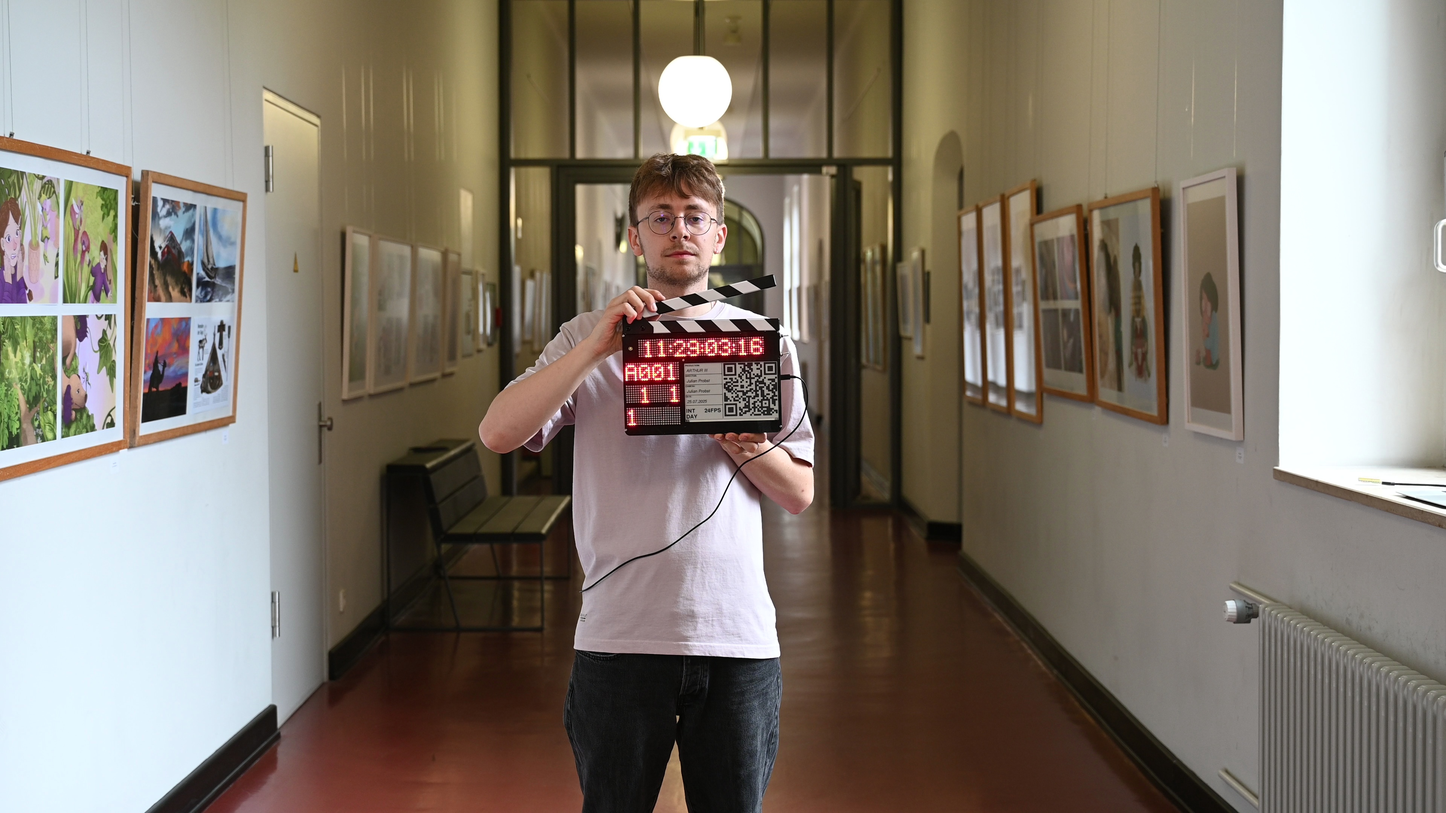ARC-SLATE: (622, 318, 778, 433)
